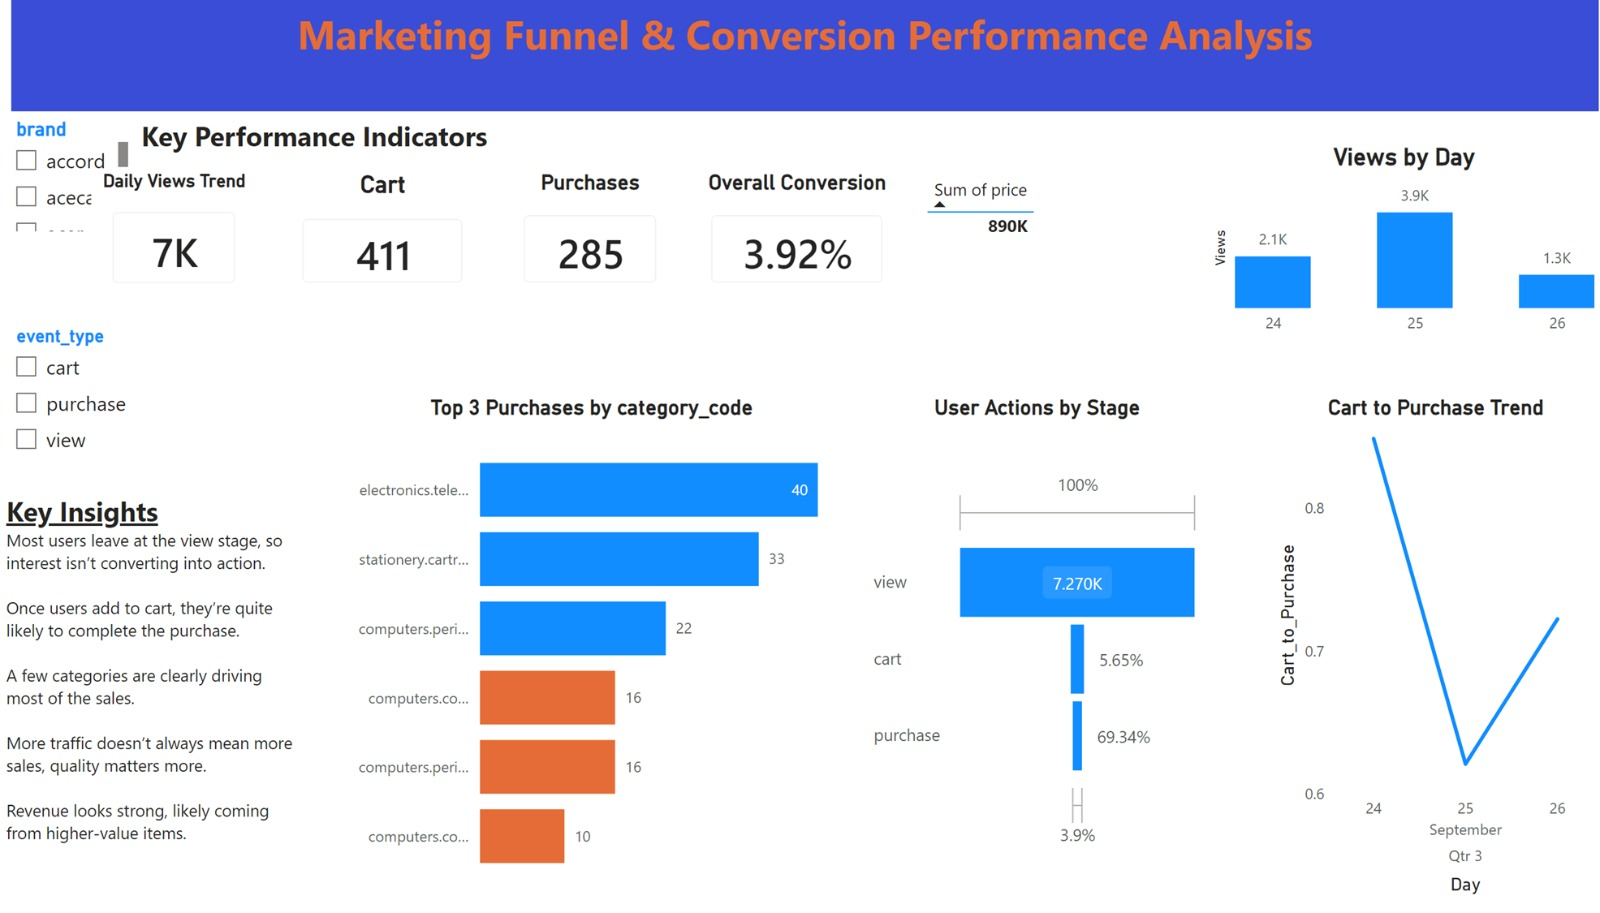

The dashboard page shown, as its layout file describes it:
{"tool":"powerbi","page":{"name":"Page 1","canvas":[1280,720],"ordinal":0},"visuals":[{"type":"shape","box":[9.4,0,1269.9,88.8],"z":0},{"type":"textbox","box":[9.4,0,1269.9,88.8],"z":1000},{"type":"textbox","box":[107.7,89.4,1171.1,46.4],"z":2000},{"type":"cardVisual","title":"Daily Views Trend","fields":{"Data":["Table1.Views"]},"box":[72.9,135.8,132.9,107.7],"z":3000,"group":"g1"},{"type":"funnel","title":"User Actions by Stage","fields":{"Category":["Table1.event_type"],"Y":["CountNonNull(Table1.event_type)"]},"box":[694.1,316.4,271.7,402.5],"z":3000},{"type":"slicer","fields":{"Values":["Table1.brand"]},"box":[0,89.4,107.7,101],"z":4000},{"type":"cardVisual","title":"Cart","fields":{"Data":["Table1.Cart"]},"box":[225.2,135.8,162.8,107.7],"z":4000,"group":"g1"},{"type":"cardVisual","title":"Purchases","fields":{"Data":["Table1.Purchases"]},"box":[401.5,135.8,140.4,107.7],"z":5000,"group":"g1"},{"type":"slicer","fields":{"Values":["Table1.event_type"]},"box":[0,255.1,107.7,120.9],"z":5000},{"type":"cardVisual","title":"Overall Conversion ","fields":{"Data":["Table1.Overall_Conversion"]},"box":[552.3,135.8,171.8,107.7],"z":6000,"group":"g1"},{"type":"lineChart","title":"Cart to Purchase Trend","fields":{"Y":["Table1.Cart_to_Purchase"],"Category":["Table1.event_time.1.Variation.Date Hierarchy.Quarter","Table1.event_time.1.Variation.Date Hierarchy.Month","Table1.event_time.1.Variation.Date Hierarchy.Day"]},"box":[1017.1,316.4,263.4,404.2],"z":6000},{"type":"clusteredBarChart","title":"Top 3 Purchases by category_code","fields":{"Category":["Table1.category_code"],"Y":["Table1.Purchases"]},"box":[268.3,316.4,410.8,402.5],"z":7000},{"type":"columnChart","fields":{"Category":["Table1.event_time.1.Variation.Date Hierarchy.Day"],"Y":["Table1.Views"]},"box":[965.7,114.3,314.7,162.3],"z":8000},{"type":"group","id":"g1","title":"Group 1","box":[72.9,135.8,834.9,107.7],"z":9000},{"type":"textbox","box":[0,389.3,243.5,329.6],"z":10000},{"type":"tableEx","fields":{"Values":["Sum(Table1.price)"]},"box":[736,135.8,171.8,107.7],"z":11000,"group":"g1"}]}

Visuals, with their boxes in screenshot pixels (x1, y1, x2, y2), scaled from the page's 1280x720 canvas onto the 1600x913 screenshot:
shape: locate(12, 0, 1599, 113)
textbox: locate(12, 0, 1599, 113)
textbox: locate(135, 113, 1598, 172)
"Daily Views Trend" cardVisual: locate(91, 172, 257, 309)
"User Actions by Stage" funnel: locate(868, 401, 1207, 912)
slicer - Table1.brand: locate(0, 113, 135, 241)
"Cart" cardVisual: locate(282, 172, 485, 309)
"Purchases" cardVisual: locate(502, 172, 677, 309)
slicer - Table1.event_type: locate(0, 323, 135, 477)
"Overall Conversion " cardVisual: locate(690, 172, 905, 309)
"Cart to Purchase Trend" lineChart: locate(1271, 401, 1599, 912)
"Top 3 Purchases by category_code" clusteredBarChart: locate(335, 401, 849, 912)
columnChart - Table1.event_time.1.Variation.Date Hierarchy.Day x Table1.Views: locate(1207, 145, 1599, 351)
"Group 1" group: locate(91, 172, 1135, 309)
textbox: locate(0, 494, 304, 912)
tableEx - Sum(Table1.price): locate(920, 172, 1135, 309)
